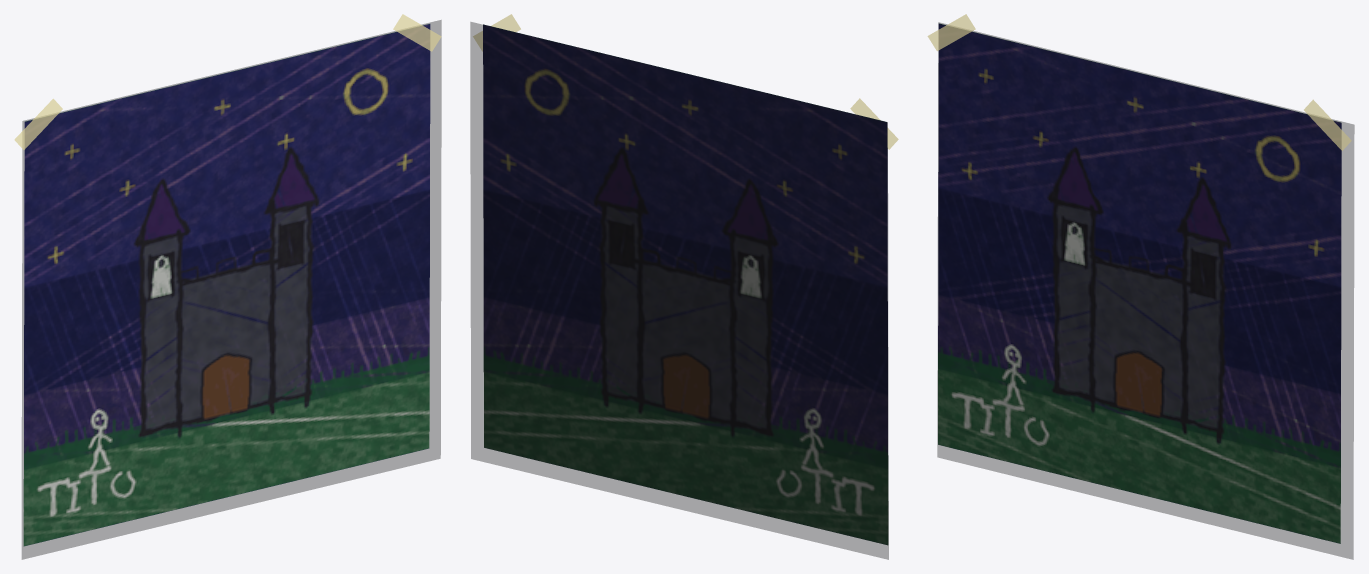
File: desenho_3.glb
3 views of the same model, side by side, from view 1: azimuth 30°, elevation 25°; view 2: azimuth 150°, elevation 25°; view 3: azimuth 330°, elevation 25° (orthographic).
Parts seen in each view (by area): view 1: _MeshInstance3D_1236_2, _MeshInstance3D_1235_3, _MeshInstance3D_1238_0, _MeshInstance3D_1237_1; view 2: _MeshInstance3D_1235_3, _MeshInstance3D_1236_2; view 3: _MeshInstance3D_1236_2, _MeshInstance3D_1235_3, _MeshInstance3D_1237_1, _MeshInstance3D_1238_0.
Boxes of the visible parts, x1=… form: _MeshInstance3D_1236_2: x1=23, y1=24, x2=430, y2=546; _MeshInstance3D_1235_3: x1=22, y1=20, x2=441, y2=559; _MeshInstance3D_1238_0: x1=393, y1=14, x2=441, y2=51; _MeshInstance3D_1237_1: x1=14, y1=98, x2=62, y2=149; _MeshInstance3D_1235_3: x1=470, y1=22, x2=888, y2=559; _MeshInstance3D_1236_2: x1=483, y1=24, x2=888, y2=545; _MeshInstance3D_1236_2: x1=938, y1=23, x2=1341, y2=543; _MeshInstance3D_1235_3: x1=937, y1=22, x2=1354, y2=559; _MeshInstance3D_1237_1: x1=927, y1=14, x2=975, y2=51; _MeshInstance3D_1238_0: x1=1304, y1=99, x2=1351, y2=150.
Size of the model in its own units: 0.9512 by 0.9666 by 0.005.
3 materials, 1 textured.
